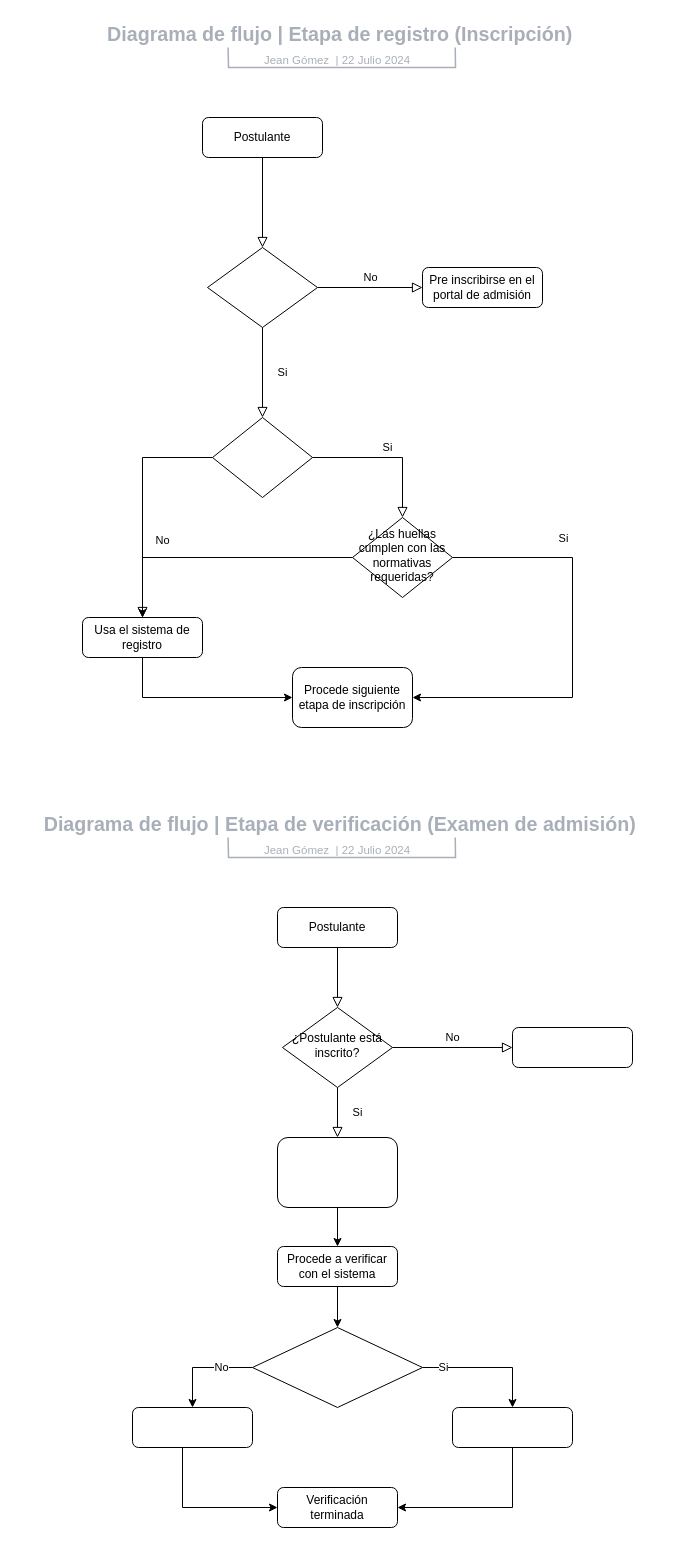
Some shapes in this 676 by 1546 pixel diagram are drawn without their labels. The shapes that lost their labels are listed below. From the top down, each one's box as (x1, y1, x2, y2) in pixels, then its label:
(206, 246, 318, 328): ¿Postulante está pre inscrito?
(212, 416, 312, 498): ¿Tiene registro de huellas anteriormente?
(512, 1026, 632, 1068): No puede ser verificado
(276, 1136, 398, 1208): Colocar el documento de registro en el sistema y su huella dactilar
(252, 1326, 422, 1408): ¿El sistema arroja "match : Verdadero"?
(132, 1406, 252, 1448): El postulante aprobó la verificación
(452, 1406, 572, 1448): El postulante no aprobó verificado
